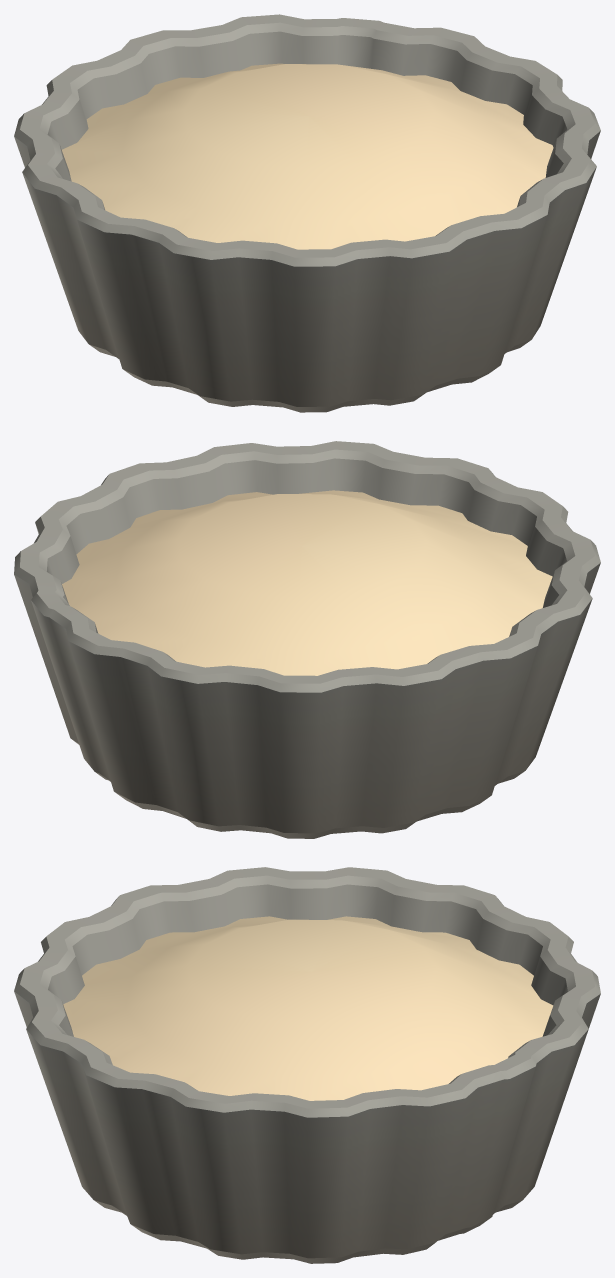
The model's file is Cake_Tin_LV3.glb.
3 views of the same model, one above another, from view 1: azimuth 30°, elevation 25°; view 2: azimuth 150°, elevation 25°; view 3: azimuth 270°, elevation 25° (orthographic).
Parts seen in each view (by area): view 1: Cake_Tin_LV3; view 2: Cake_Tin_LV3; view 3: Cake_Tin_LV3.
Boxes of the visible parts, x1=… form: Cake_Tin_LV3: x1=14, y1=14, x2=600, y2=412; Cake_Tin_LV3: x1=14, y1=441, x2=600, y2=838; Cake_Tin_LV3: x1=14, y1=867, x2=600, y2=1263.
Bounding box in the file's own units: 0.4305 × 0.1622 × 0.4329.
2 materials, 2 textured.
